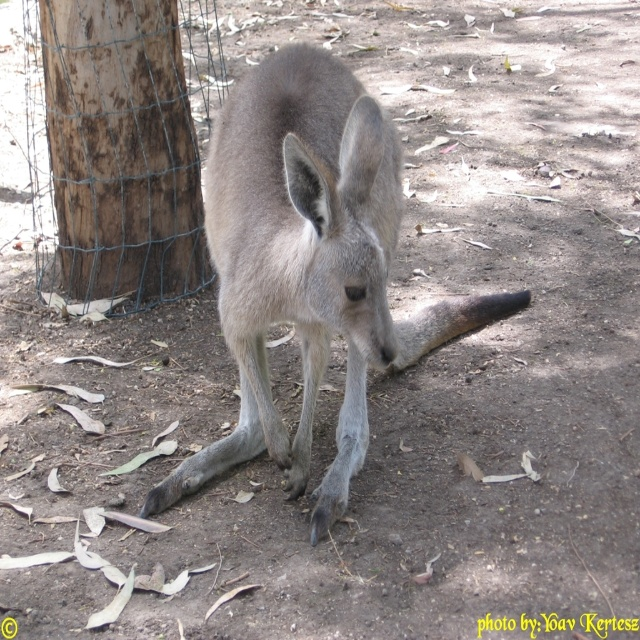Kangaroo: (140, 39, 532, 546)
